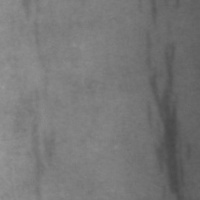inclusion: (133, 20, 199, 199), (23, 114, 59, 199), (142, 0, 167, 31)
